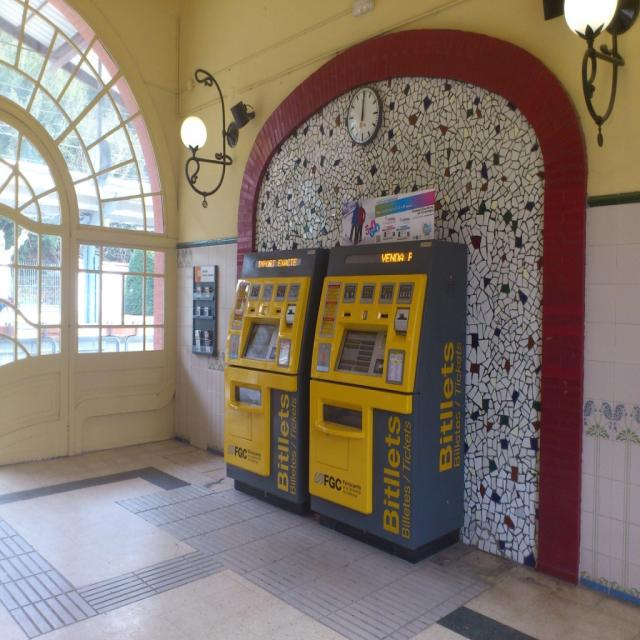tickets-maquina: (309, 240, 466, 561), (224, 248, 329, 513)
